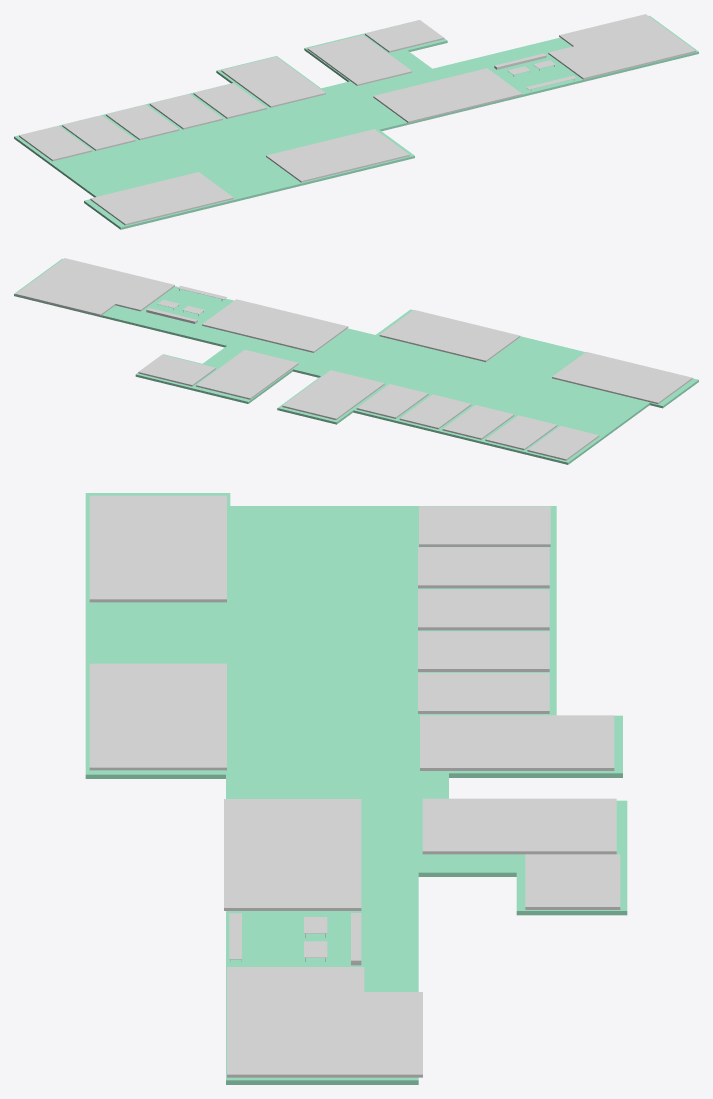
Rendered from schoolmap_3F.glb.
3 renders of one model, top to bottom at view 1: azimuth 30°, elevation 25°; view 2: azimuth 150°, elevation 25°; view 3: azimuth 270°, elevation 25°, orthographic. The views are drawn at different scales.
Visible parts, largest first — view 1: 3F, 312, 308, 307, 301, 318, 317, 316, 322, 319, 323, 321 (+2 smaller); view 2: 3F, 312, 308, 301, 307, 317, 318, 316, 322, 321, 320, 319 (+2 smaller); view 3: 3F, 312, 308, 307, 301, 317, 318, 322, 321, 323, 320, 319 (+2 smaller).
Part boxes in pixels (x1,y1,x2,y2): 3F: [14, 15, 698, 229]; 312: [548, 14, 695, 79]; 308: [373, 68, 522, 122]; 307: [266, 129, 409, 182]; 301: [90, 172, 233, 225]; 318: [221, 56, 325, 107]; 317: [307, 35, 412, 85]; 316: [365, 20, 444, 52]; 322: [62, 115, 135, 150]; 319: [193, 83, 266, 118]; 323: [19, 125, 92, 161]; 321: [106, 104, 179, 140]; 3F: [14, 258, 698, 464]; 312: [15, 258, 174, 315]; 308: [202, 299, 348, 352]; 301: [552, 352, 692, 403]; 307: [379, 310, 520, 362]; 317: [196, 350, 298, 399]; 318: [282, 370, 384, 419]; 316: [138, 354, 215, 386]; 322: [485, 415, 557, 450]; 321: [442, 405, 514, 439]; 320: [399, 394, 471, 429]; 319: [356, 384, 428, 418]; 3F: [85, 493, 627, 1084]; 312: [227, 967, 422, 1077]; 308: [224, 799, 361, 910]; 307: [89, 663, 226, 770]; 301: [89, 495, 226, 602]; 317: [422, 798, 616, 854]; 318: [420, 715, 614, 770]; 322: [418, 547, 549, 588]; 321: [418, 589, 549, 630]; 323: [419, 506, 550, 546]; 320: [418, 631, 549, 671]; 319: [418, 673, 549, 713].
Size of the model in its own units: 7.84 by 0.0593 by 3.05.
